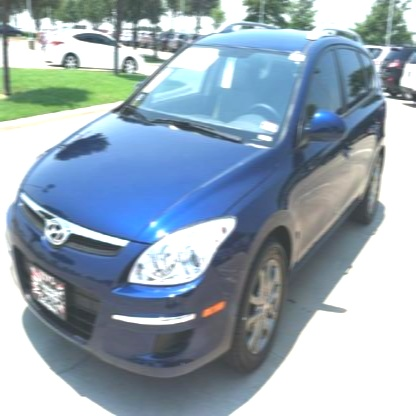Vehicle: (4, 22, 387, 383)
